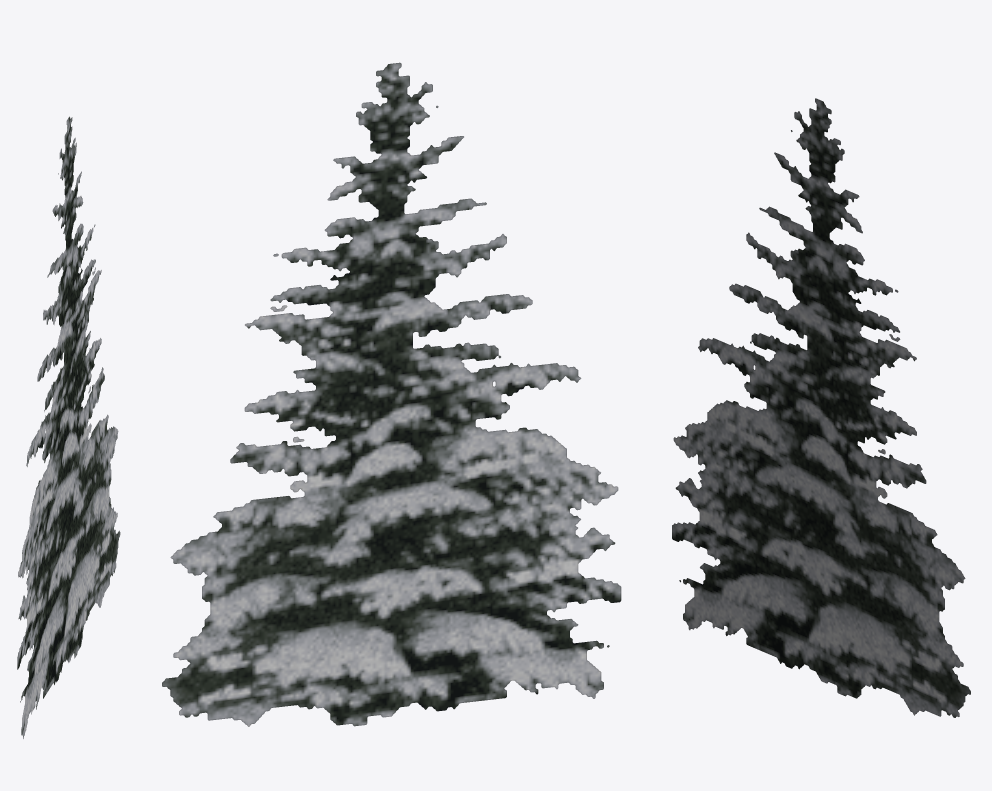
The model's file is Foliage2.fbx.
The picture shows the model from 3 angles, left to right: view 1: azimuth 30°, elevation 25°; view 2: azimuth 150°, elevation 25°; view 3: azimuth 270°, elevation 25°; orthographic projection. The views are drawn at different scales.
Visible parts, largest first — view 1: Foliage2; view 2: Foliage2; view 3: Foliage2.
Boxes of the visible parts, x1=… form: Foliage2: x1=17, y1=116, x2=120, y2=738; Foliage2: x1=162, y1=62, x2=621, y2=726; Foliage2: x1=672, y1=98, x2=970, y2=717.
Bounding box in the file's own units: 976 × 2154 × 976.
